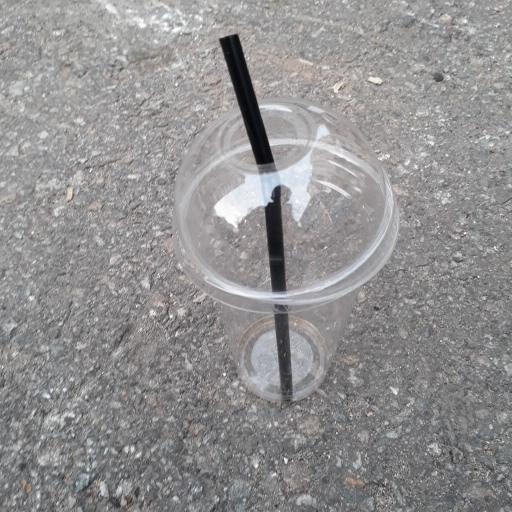Plastic_2: (172, 34, 400, 407)
